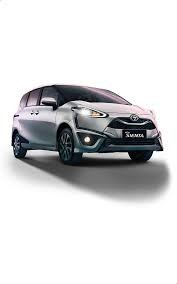mobil: (9, 79, 164, 165)
